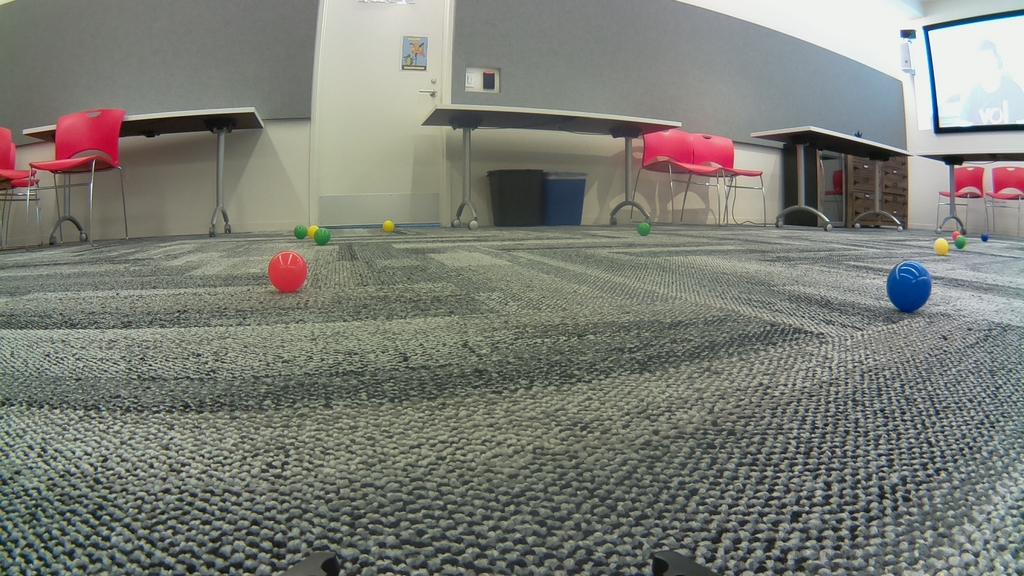ball: (951, 231, 961, 241)
